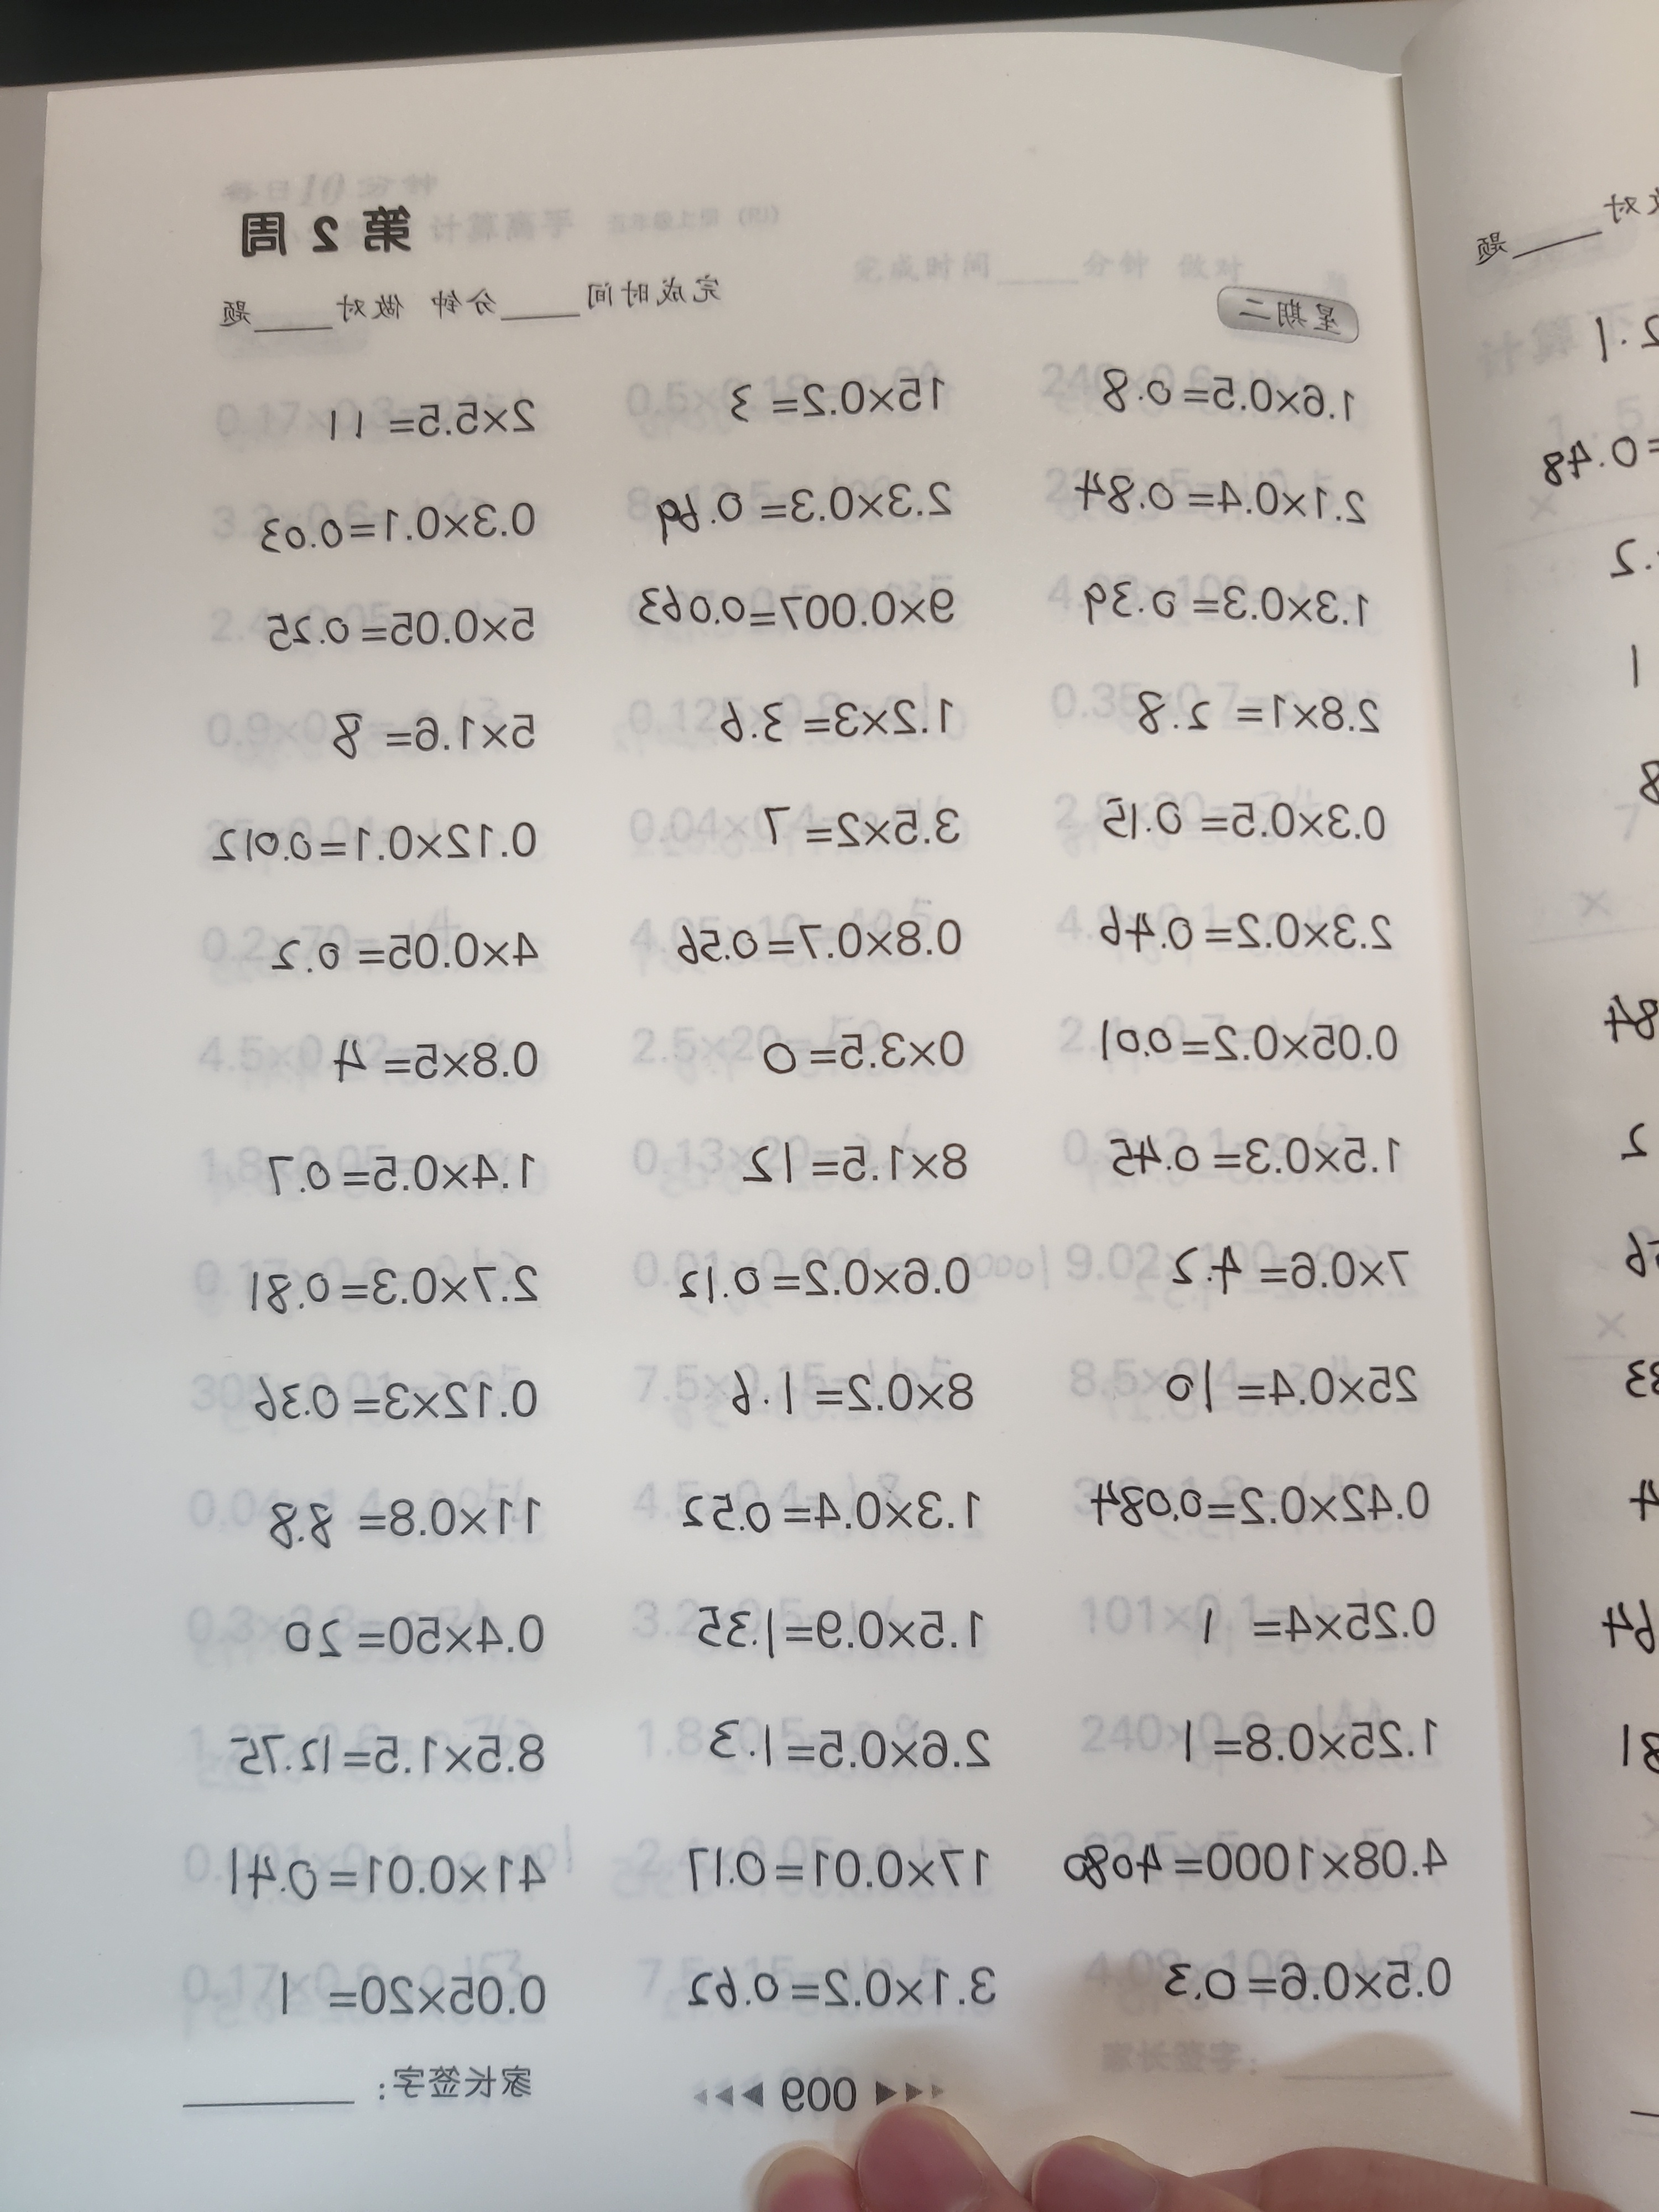equation: (1061, 1815, 1466, 1909), (214, 1831, 561, 1923), (662, 1825, 1014, 1916), (667, 1947, 1009, 2036), (1086, 1465, 1446, 1548), (694, 1702, 999, 1799), (256, 1951, 559, 2047), (713, 1348, 990, 1453), (235, 1251, 549, 1341), (1084, 892, 1403, 981), (213, 803, 549, 887), (660, 894, 985, 979), (653, 467, 967, 554), (296, 368, 565, 469), (247, 1479, 545, 1569), (622, 570, 972, 646), (1089, 1118, 1413, 1200), (674, 1472, 999, 1554), (251, 1136, 547, 1224), (735, 1000, 986, 1104), (235, 1367, 549, 1449), (249, 481, 552, 564), (1150, 1942, 1466, 2022), (1086, 1005, 1413, 1082), (223, 1721, 554, 1796), (1110, 665, 1399, 751), (662, 1245, 990, 1320), (1077, 564, 1382, 644), (1073, 355, 1370, 437), (1157, 1707, 1453, 1789), (251, 914, 558, 993), (685, 1597, 999, 1674), (1089, 777, 1408, 852), (261, 1599, 570, 1676), (1188, 1581, 1448, 1670), (1148, 1353, 1429, 1435), (1154, 1228, 1422, 1313), (1072, 456, 1382, 529), (713, 347, 978, 430), (317, 1019, 552, 1111), (737, 1125, 999, 1207), (749, 786, 974, 880), (261, 590, 542, 664), (701, 685, 964, 758), (317, 695, 552, 775)
